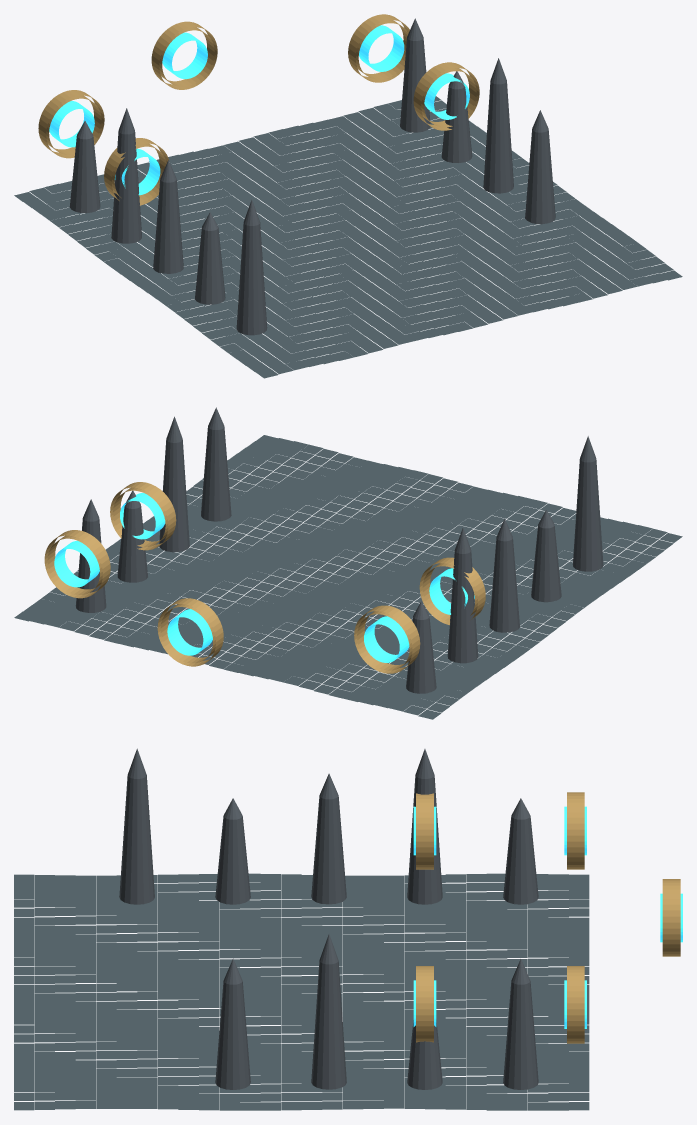
The model's file is time_factory.glb.
The picture shows the model from 3 angles, top to bottom: view 1: azimuth 30°, elevation 25°; view 2: azimuth 150°, elevation 25°; view 3: azimuth 270°, elevation 25°; orthographic projection. The views are drawn at different scales.
Parts seen in each view (by area): view 1: Steel grated time factory plaza, Massive sweeping compression chimneys, Doubled volumetric reactor machinery, Arcing industrial temporal magnetic conduits; view 2: Steel grated time factory plaza, Massive sweeping compression chimneys, Doubled volumetric reactor machinery, Arcing industrial temporal magnetic conduits; view 3: Steel grated time factory plaza, Massive sweeping compression chimneys, Doubled volumetric reactor machinery, Arcing industrial temporal magnetic conduits.
Boxes of the visible parts, <box> form: Steel grated time factory plaza: <box>14,96,682,378</box>; Massive sweeping compression chimneys: <box>69,18,555,335</box>; Doubled volumetric reactor machinery: <box>38,14,479,205</box>; Arcing industrial temporal magnetic conduits: <box>49,25,469,195</box>; Steel grated time factory plaza: <box>14,435,682,719</box>; Massive sweeping compression chimneys: <box>75,407,603,693</box>; Doubled volumetric reactor machinery: <box>44,482,485,673</box>; Arcing industrial temporal magnetic conduits: <box>54,493,474,662</box>; Steel grated time factory plaza: <box>14,873,589,1110</box>; Massive sweeping compression chimneys: <box>119,748,538,1089</box>; Doubled volumetric reactor machinery: <box>416,792,680,1043</box>; Arcing industrial temporal magnetic conduits: <box>413,806,682,1028</box>.
Bounding box in the file's own units: 40.59 × 12.13 × 48.82.
